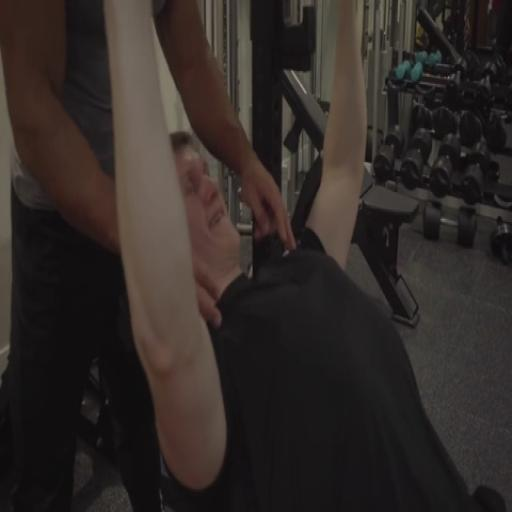exercise: (103, 0, 510, 511), (0, 0, 298, 511)
